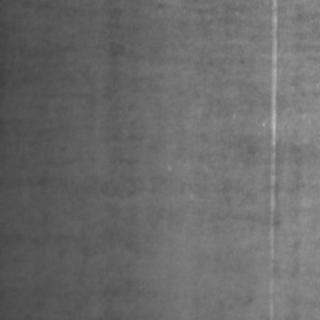scratches: (262, 0, 282, 294)
